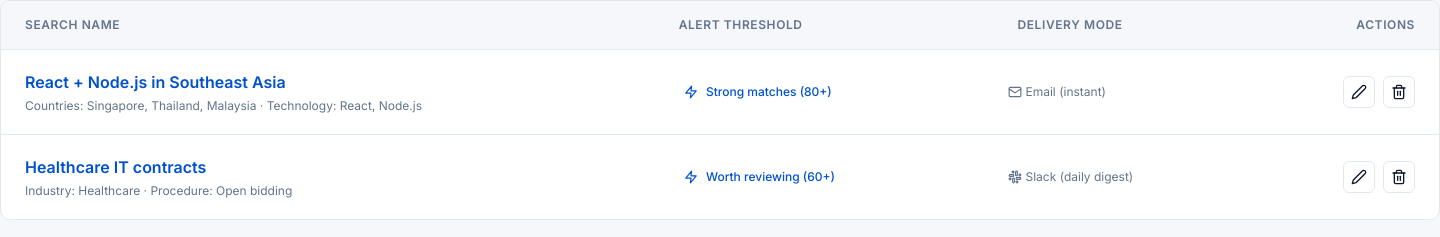
Scenario: SavedSearchesList › cancels editing when cancel button is clicked
Click the button titled "Edit" in the row of "Email (instant)" at [1359, 92], box [1343,76,1375,108]
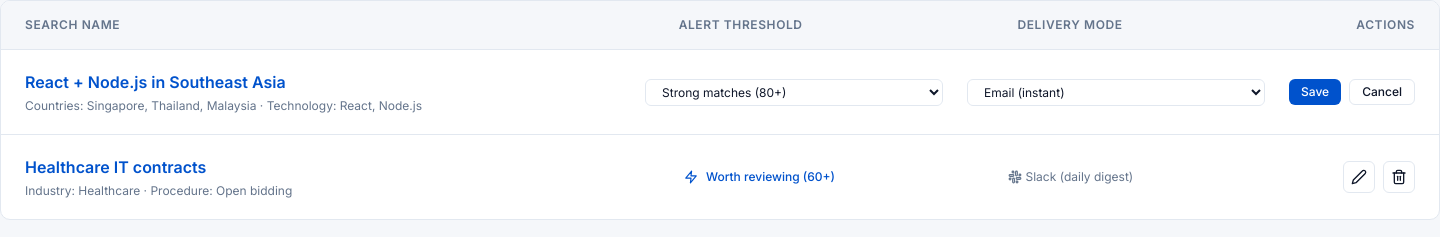
Click the button "Cancel" at [1382, 92], box [1349,79,1415,105]
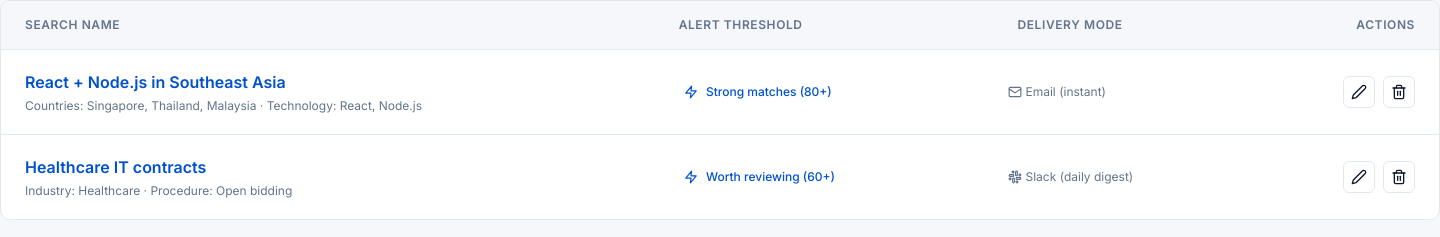
Check: the number of buttons titled "Edit" is 2, box [1343,76,1375,108]; [1343,161,1375,193]
